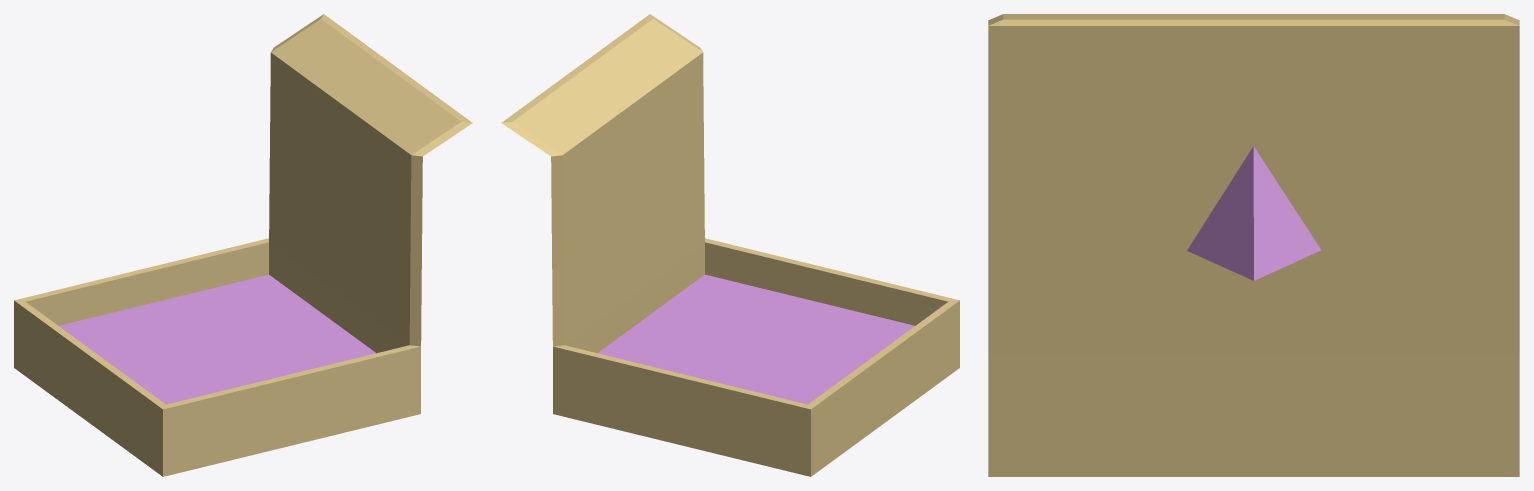
The picture shows the model from 3 angles, left to right: view 1: azimuth 30°, elevation 25°; view 2: azimuth 150°, elevation 25°; view 3: azimuth 270°, elevation 25°; orthographic projection. The views are drawn at different scales.
Visible parts, largest first — view 1: Cube; view 2: Cube; view 3: Cube, Cone.
Part boxes in pixels (box(x1,y1,x2,y2)): Cube: box(14, 14, 472, 476); Cube: box(501, 14, 959, 476); Cube: box(988, 14, 1519, 476); Cone: box(1187, 146, 1320, 280).
Bounding box in the file's own units: 142 × 113 × 110.
